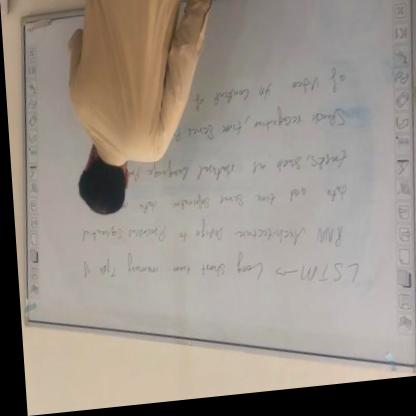Handwritten text: (67, 253, 361, 306), (72, 219, 347, 259), (176, 103, 354, 156), (127, 183, 352, 222), (187, 67, 357, 116), (136, 151, 350, 188)
Lecturer: (48, 0, 221, 220)
